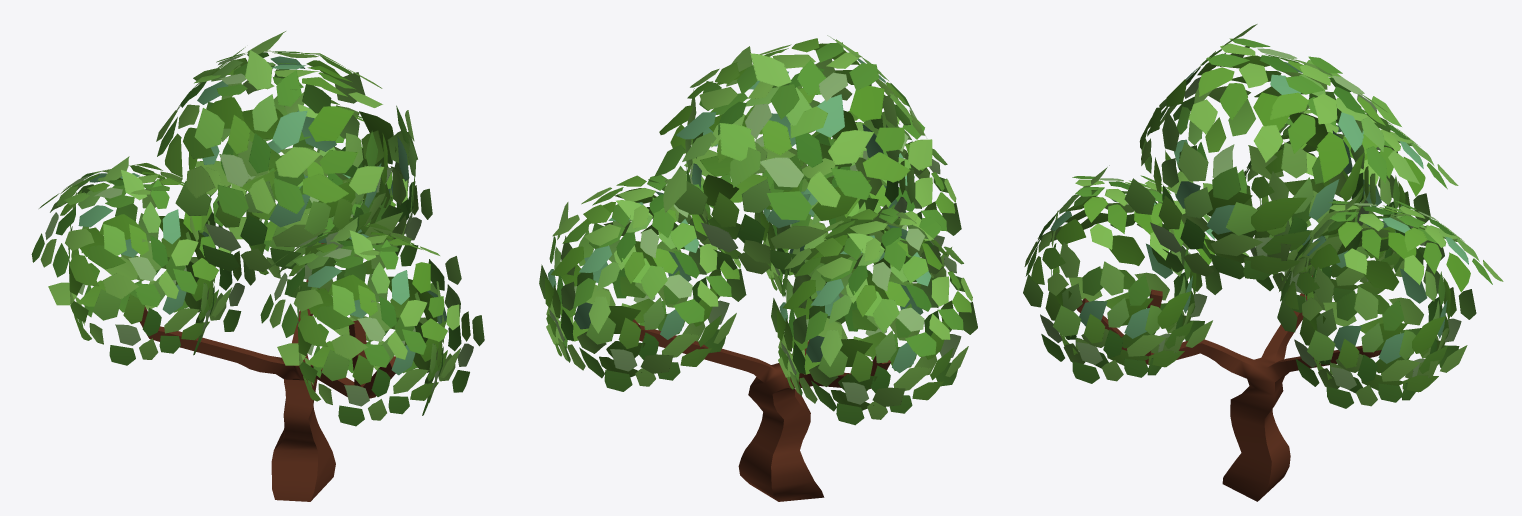
The picture shows the model from 3 angles, left to right: view 1: azimuth 30°, elevation 25°; view 2: azimuth 150°, elevation 25°; view 3: azimuth 270°, elevation 25°; orthographic projection. The views are drawn at different scales.
Parts seen in each view (by area): view 1: leaves.038_37, trunk_0, leaves.033_32, leaves.009_10, leaves.029_28, leaves.028_27, leaves.011_9, leaves.005_5, leaves.024_23, leaves.035_34, leaves.037_36, leaves.032_31 (+21 smaller); view 2: leaves.037_36, trunk_0, leaves.036_35, leaves.031_30, leaves.022_21, leaves.013_12, leaves.018_17, leaves.027_26, leaves.028_27, leaves.039_38, leaves.017_16, leaves.019_18 (+22 smaller); view 3: leaves.034_33, trunk_0, leaves.031_30, leaves.006_6, leaves.016_15, leaves.039_38, leaves.004_4, leaves.014_13, leaves.035_34, leaves.018_17, leaves.008_8, leaves.013_12 (+21 smaller).
Part boxes in pixels (left/top/right/bottom): leaves.038_37: left=194, top=50, right=383, bottom=218; trunk_0: left=140, top=243, right=395, bottom=501; leaves.033_32: left=175, top=140, right=402, bottom=271; leaves.009_10: left=332, top=230, right=459, bottom=367; leaves.029_28: left=103, top=170, right=230, bottom=306; leaves.028_27: left=31, top=156, right=146, bottom=299; leaves.011_9: left=260, top=217, right=375, bottom=359; leaves.005_5: left=321, top=299, right=460, bottom=426; leaves.024_23: left=92, top=239, right=232, bottom=365; leaves.035_34: left=195, top=72, right=417, bottom=223; leaves.037_36: left=156, top=31, right=285, bottom=198; leaves.032_31: left=304, top=130, right=387, bottom=274; leaves.037_36: left=719, top=53, right=932, bottom=220; trunk_0: left=632, top=319, right=891, bottom=501; leaves.036_35: left=674, top=142, right=902, bottom=274; leaves.031_30: left=654, top=62, right=799, bottom=212; leaves.022_21: left=782, top=237, right=906, bottom=366; leaves.013_12: left=551, top=204, right=674, bottom=333; leaves.018_17: left=586, top=270, right=736, bottom=391; leaves.027_26: left=818, top=303, right=968, bottom=425; leaves.028_27: left=847, top=230, right=972, bottom=356; leaves.039_38: left=710, top=38, right=879, bottom=147; leaves.017_16: left=539, top=236, right=673, bottom=378; leaves.019_18: left=616, top=197, right=740, bottom=323; leaves.034_33: left=1124, top=141, right=1342, bottom=279; trunk_0: left=1077, top=275, right=1381, bottom=501; leaves.031_30: left=1253, top=56, right=1419, bottom=184; leaves.006_6: left=1053, top=261, right=1212, bottom=383; leaves.016_15: left=1307, top=286, right=1467, bottom=408; leaves.039_38: left=1188, top=38, right=1376, bottom=134; leaves.004_4: left=1023, top=242, right=1185, bottom=368; leaves.014_13: left=1277, top=267, right=1439, bottom=393; leaves.035_34: left=1225, top=142, right=1369, bottom=280; leaves.018_17: left=1323, top=240, right=1476, bottom=367; leaves.008_8: left=1069, top=223, right=1222, bottom=341; leaves.013_12: left=1395, top=200, right=1503, bottom=292.
Bounding box in the file's own units: 13.87 × 15.89 × 15.85.
Materials: 2 (1 with a texture image).
